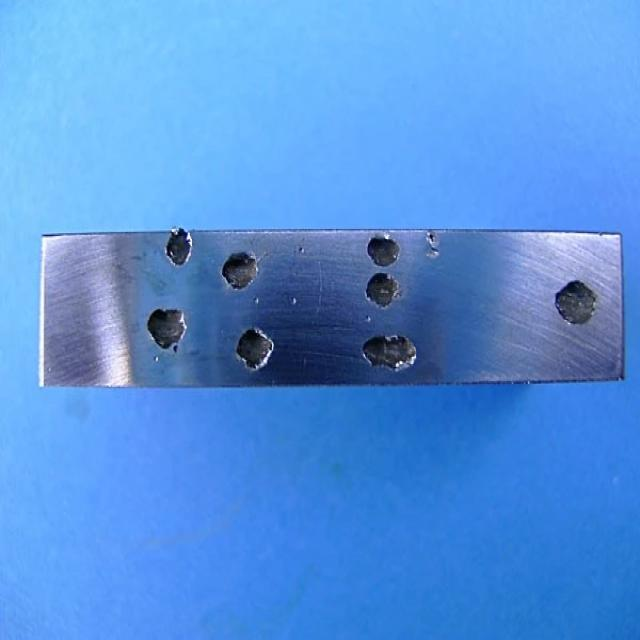Pitting Corrosion: (142, 309, 189, 355), (233, 326, 277, 375), (363, 335, 417, 372), (554, 280, 598, 325), (221, 250, 259, 291), (165, 226, 193, 268), (365, 273, 399, 307), (368, 234, 400, 267), (426, 230, 440, 260), (253, 295, 261, 306), (290, 296, 297, 307), (153, 354, 160, 363), (298, 246, 305, 254), (364, 315, 372, 322)
